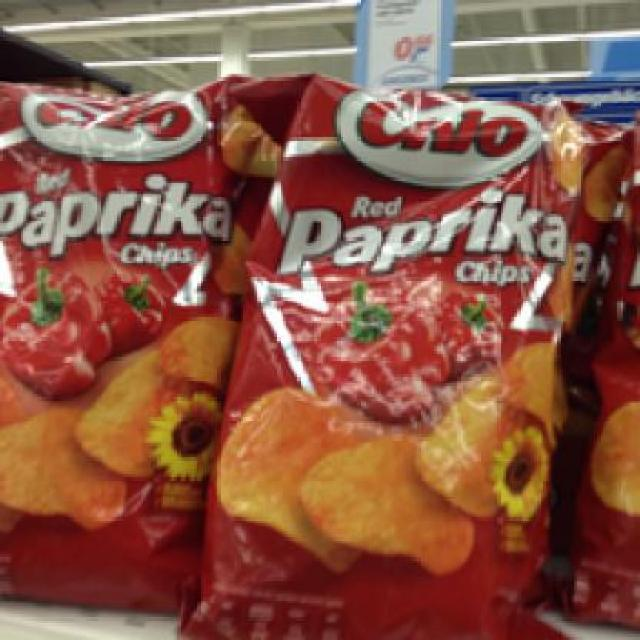Chips: (203, 74, 580, 637), (0, 76, 235, 609)
